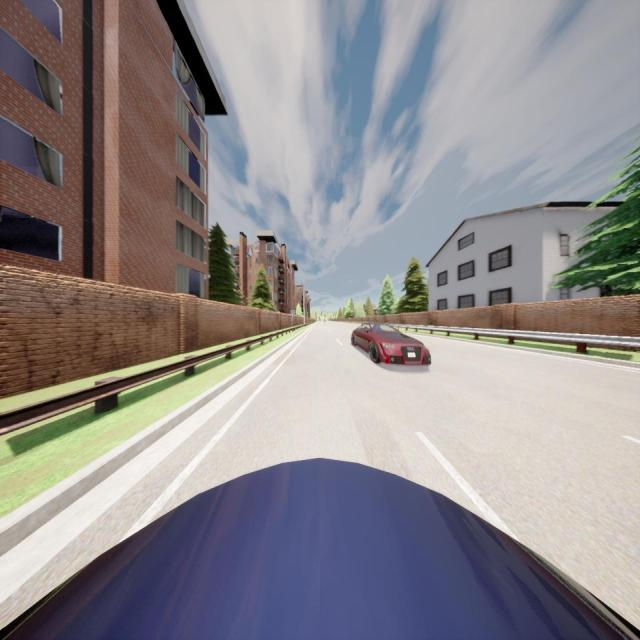Vehicle: (3, 457, 640, 640), (351, 323, 431, 364)
